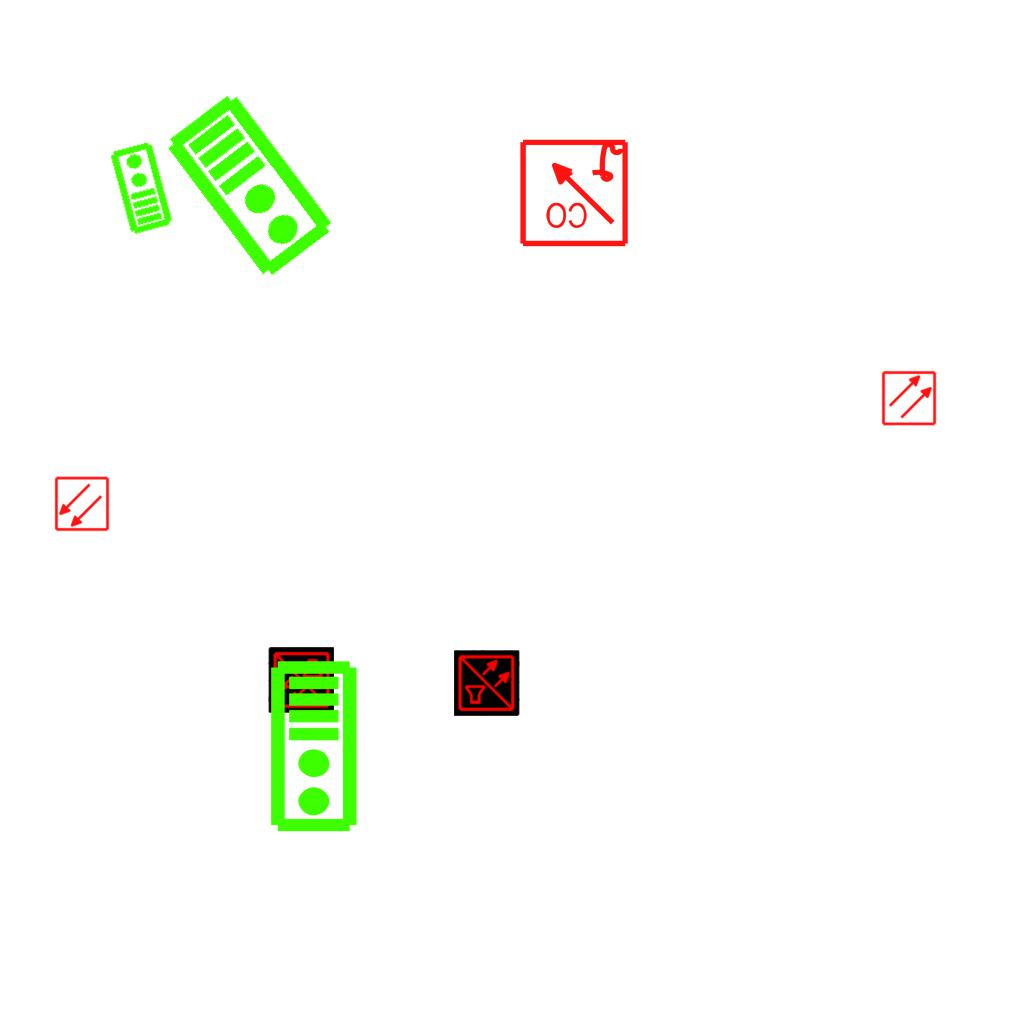Gegensprechanlage_mit_Video: (160, 86, 343, 284), (268, 659, 363, 835), (106, 139, 175, 237)
OKW_Multisensormelder_(Kombination_optischer_Rauch-Kahlenmonoxid_Waerme-Melder): (268, 647, 334, 713), (454, 650, 520, 716)
RMO_Rauchmelder_optischer: (54, 476, 110, 532), (881, 370, 937, 426)
ROA_Rauchmelder_optisch_mit_Signalgeber_(Sockelsirene): (517, 135, 630, 248)
